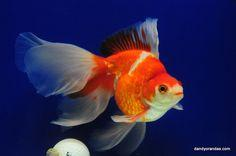goldfish: (42, 36, 197, 130)
